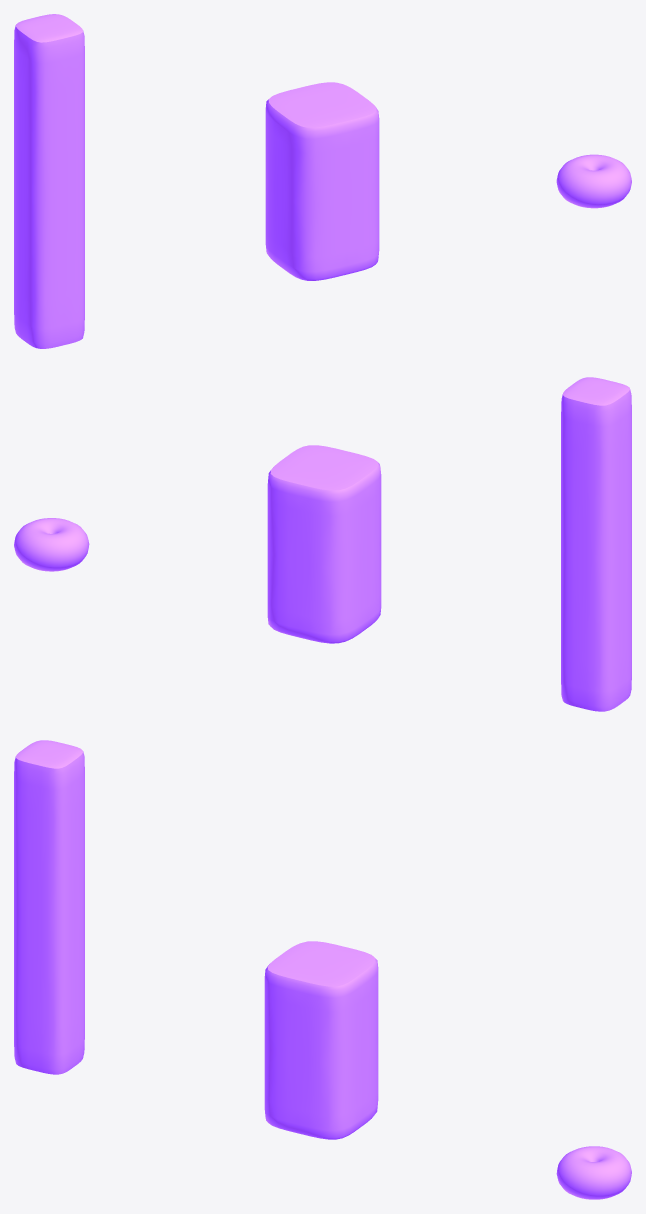
The model's file is pch-buildings.gltf.
The picture shows the model from 3 angles, top to bottom: view 1: azimuth 30°, elevation 25°; view 2: azimuth 150°, elevation 25°; view 3: azimuth 330°, elevation 25°; orthographic projection.
Visible parts, largest first — view 1: Manufacturer-tall, Manufacturer-fat, city-torus; view 2: Manufacturer-tall, Manufacturer-fat, city-torus; view 3: Manufacturer-tall, Manufacturer-fat, city-torus.
Boxes of the visible parts, x1,y1,x2,y2 form: Manufacturer-tall: (14, 14, 84, 348); Manufacturer-fat: (265, 82, 379, 280); city-torus: (556, 154, 631, 208); Manufacturer-tall: (561, 377, 631, 711); Manufacturer-fat: (267, 445, 381, 643); city-torus: (14, 518, 89, 571); Manufacturer-tall: (14, 740, 84, 1074); Manufacturer-fat: (264, 941, 378, 1139); city-torus: (556, 1146, 631, 1199).
Size of the model in its own units: 1.11 by 0.5437 by 0.1558.
